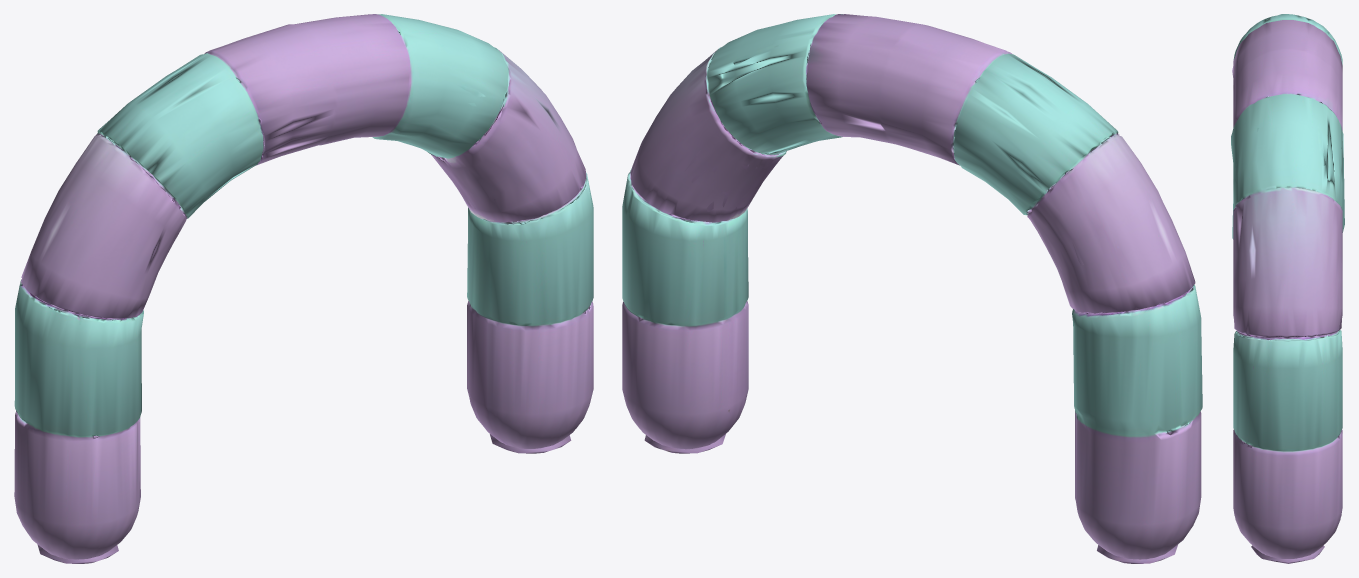
3 renders of one model, left to right at view 1: azimuth 30°, elevation 25°; view 2: azimuth 150°, elevation 25°; view 3: azimuth 270°, elevation 25°, orthographic. The views are drawn at different scales.
Parts seen in each view (by area): view 1: tripo_node_9f570727-9643-40e3-8b0e-f5ca8d1558b6; view 2: tripo_node_9f570727-9643-40e3-8b0e-f5ca8d1558b6; view 3: tripo_node_9f570727-9643-40e3-8b0e-f5ca8d1558b6.
Part boxes in pixels (x1=…): tripo_node_9f570727-9643-40e3-8b0e-f5ca8d1558b6: x1=14, y1=14, x2=593, y2=563; tripo_node_9f570727-9643-40e3-8b0e-f5ca8d1558b6: x1=622, y1=14, x2=1202, y2=563; tripo_node_9f570727-9643-40e3-8b0e-f5ca8d1558b6: x1=1231, y1=14, x2=1344, y2=563.
Size of the model in its own units: 0.998 by 0.7988 by 0.2012.
1 material, 1 textured.
